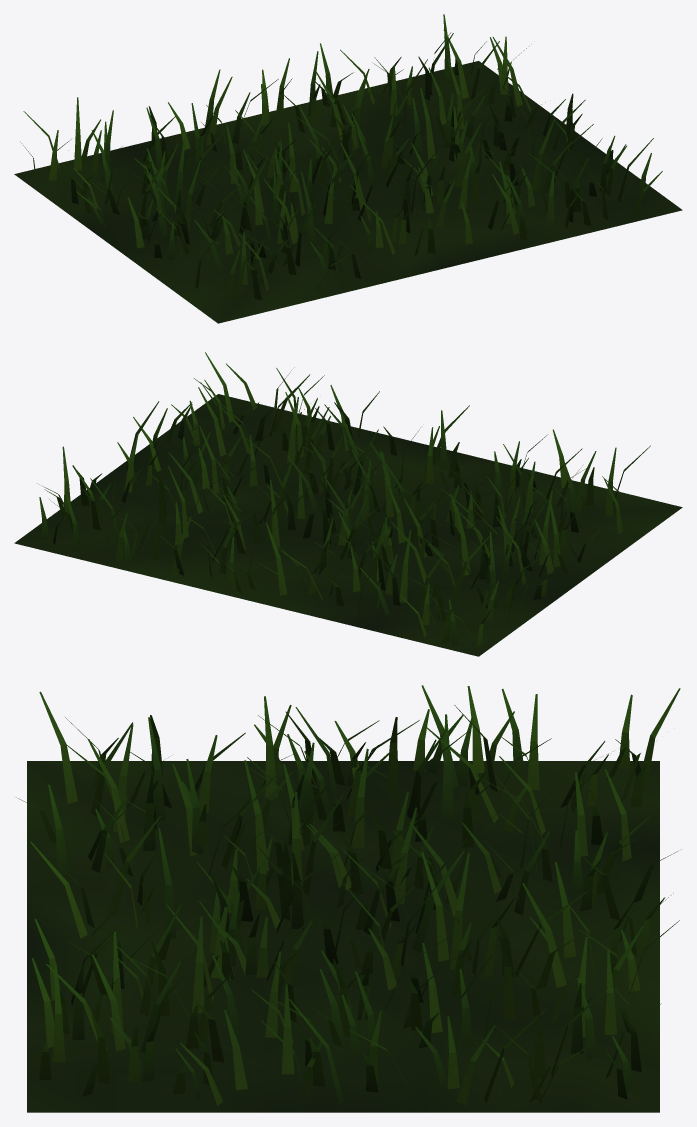
File: fm_turf.glb
3 views of the same model, one above another, from view 1: azimuth 30°, elevation 25°; view 2: azimuth 150°, elevation 25°; view 3: azimuth 270°, elevation 25° (orthographic). The views are drawn at different scales.
Visible parts, largest first — view 1: fm_turf; view 2: fm_turf; view 3: fm_turf.
Boxes of the visible parts, box(x1,y1,x2,y2) form: fm_turf: box(14, 14, 682, 323); fm_turf: box(14, 352, 682, 656); fm_turf: box(16, 685, 680, 1112).
Size of the model in its own units: 2.35 by 0.3057 by 1.85.
